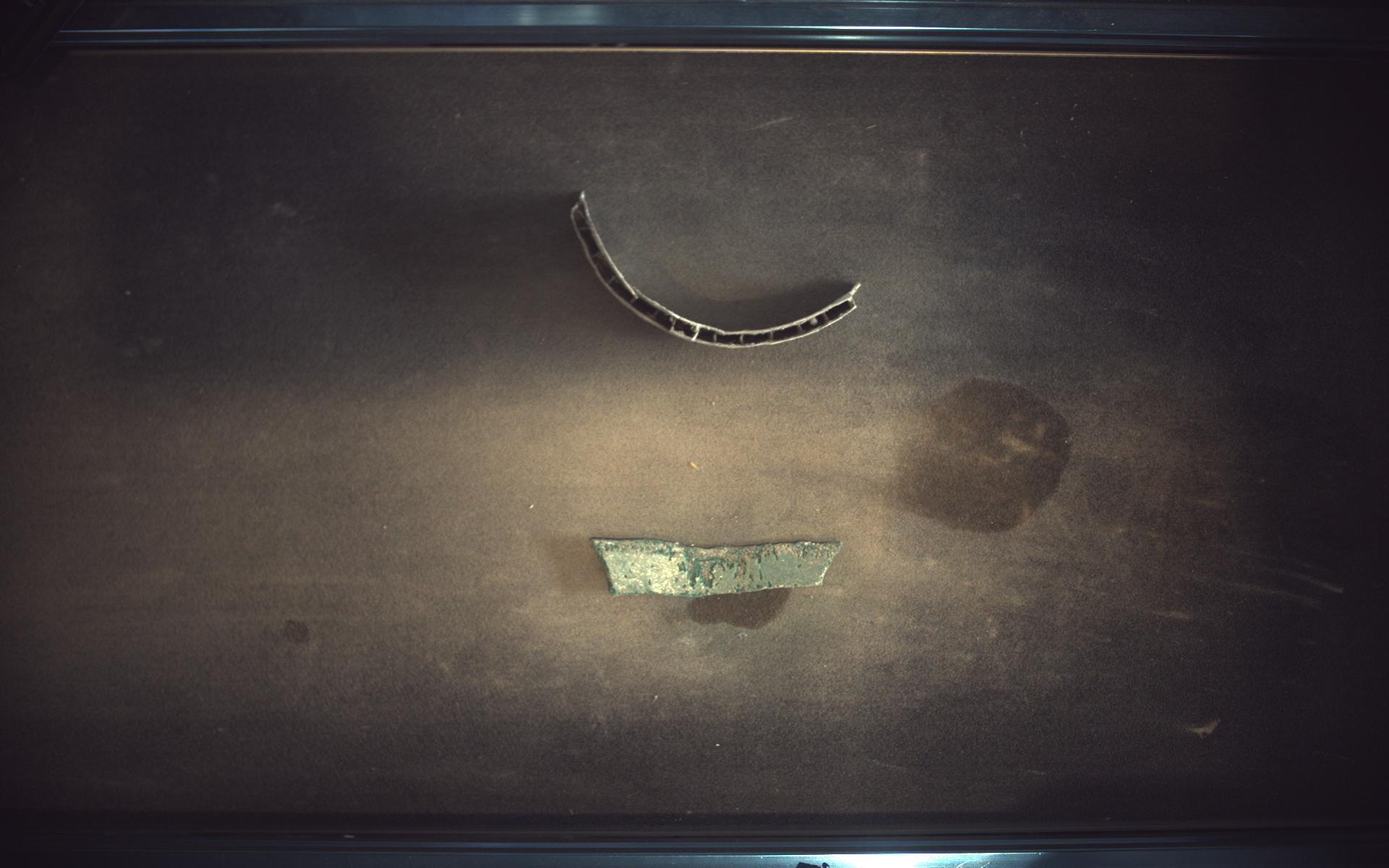plastic: (572, 191, 862, 349), (592, 540, 844, 598)
